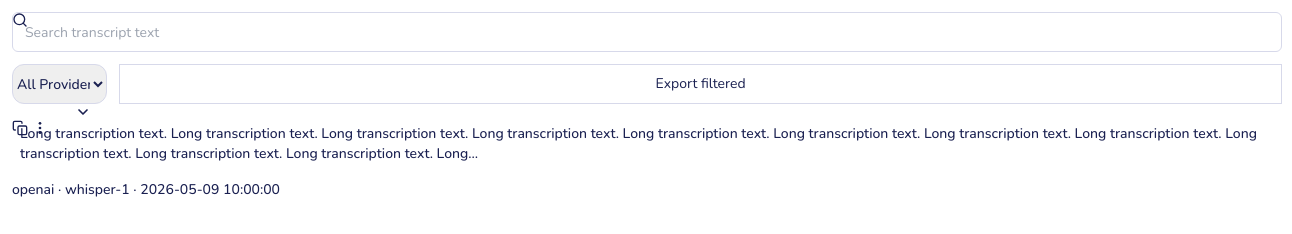
Test: <History /> › expands long transcription text when clicked
Step 1. Click the button with test id "history-text-toggle-1" → click(647, 144), box [12,120,1282,168]
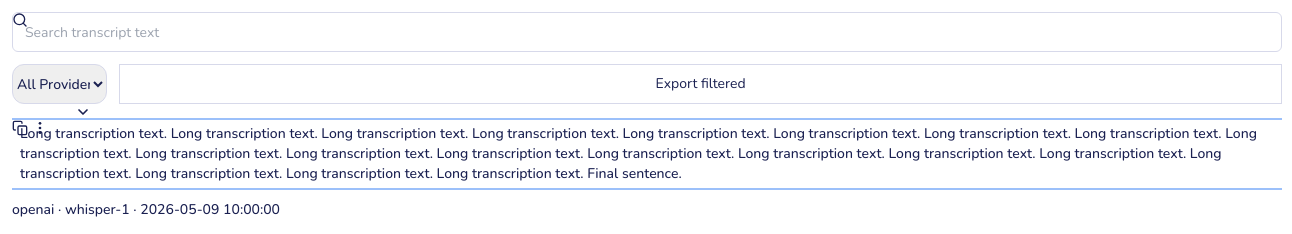
Expected: the button with test id "history-text-toggle-1" is expanded, [12,120,1282,188]
Expected: the button with test id "history-text-toggle-1" shows "Final sentence.", [12,120,1282,188]
